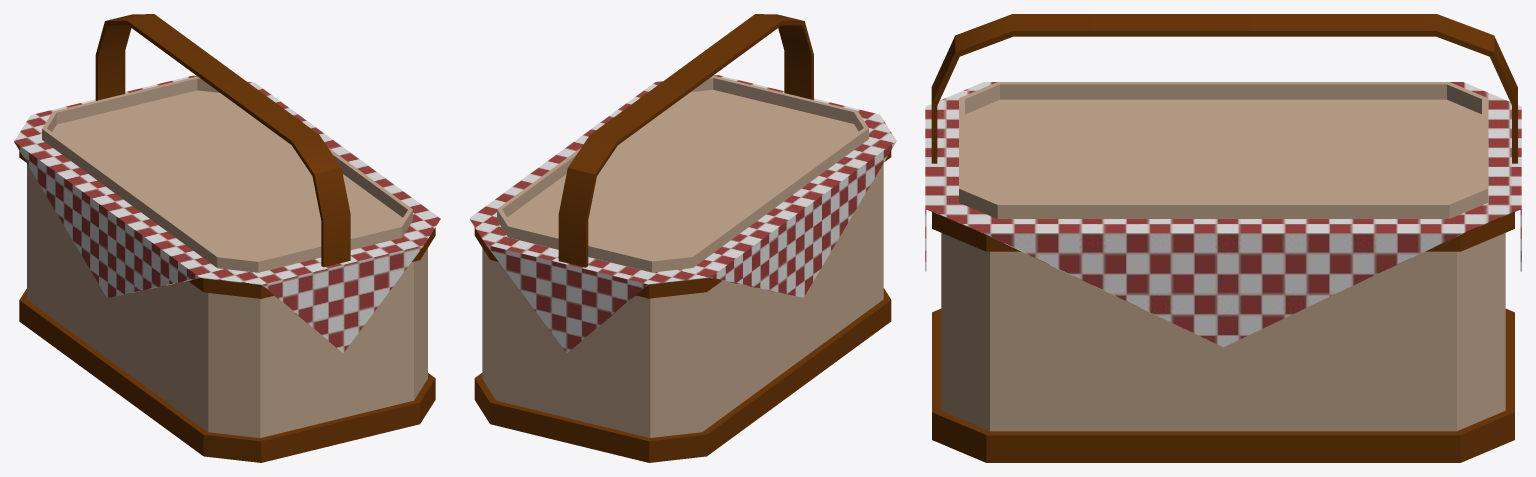
File: picnicbox.glb
3 renders of one model, left to right at view 1: azimuth 30°, elevation 25°; view 2: azimuth 150°, elevation 25°; view 3: azimuth 270°, elevation 25°, orthographic. The views are drawn at different scales.
Parts seen in each view (by area): view 1: SM_fanhe_fanhe_0; view 2: SM_fanhe_fanhe_0; view 3: SM_fanhe_fanhe_0.
Boxes of the visible parts, x1,y1,x2,y2 form: SM_fanhe_fanhe_0: (14,14,440,462); SM_fanhe_fanhe_0: (469,14,896,462); SM_fanhe_fanhe_0: (925,14,1521,462).
Size of the model in its own units: 164 by 184 by 273.
3 materials, 3 textured.
